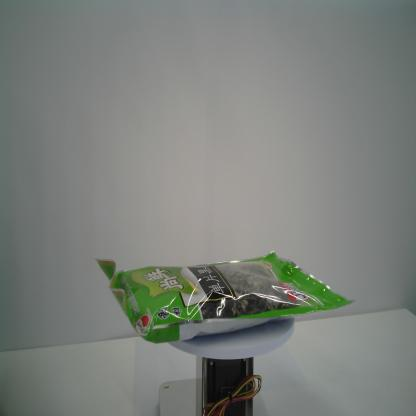Dried Food: (92, 247, 360, 345)
